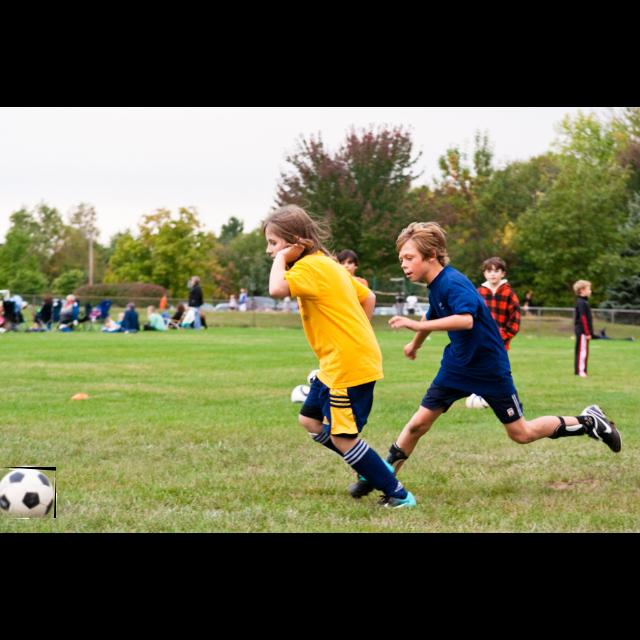Football: (0, 467, 56, 518)
